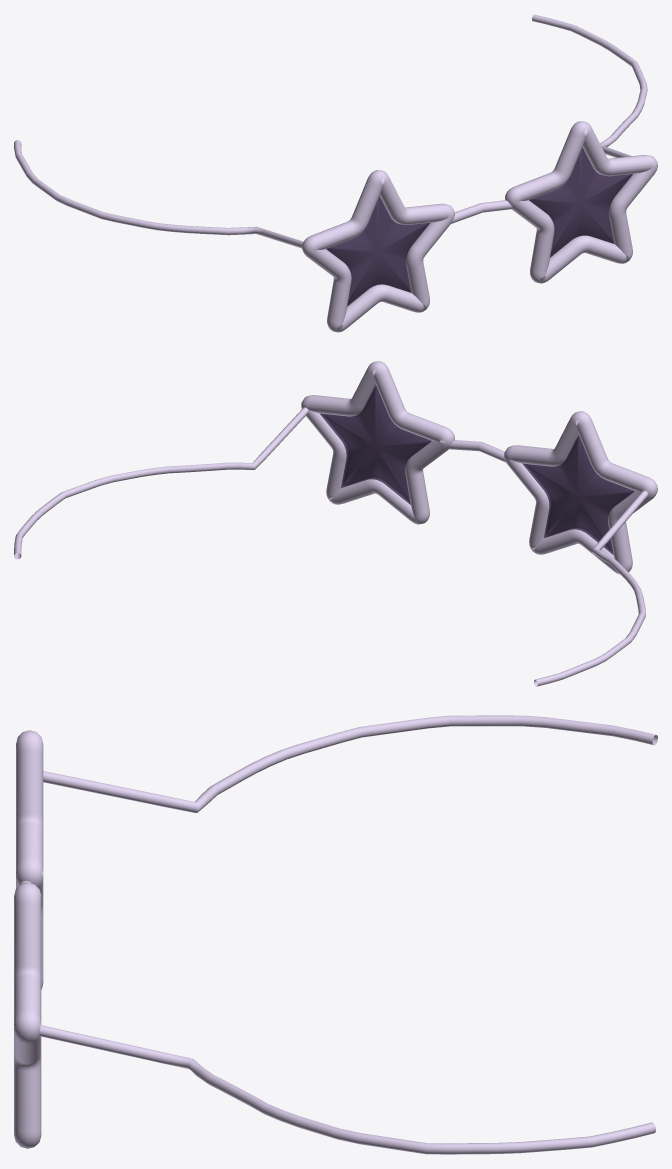
The model's file is restart_glasses_star_bear.glb.
The picture shows the model from 3 angles, top to bottom: view 1: azimuth 30°, elevation 25°; view 2: azimuth 150°, elevation 25°; view 3: azimuth 270°, elevation 25°; orthographic projection. The views are drawn at different scales.
Visible parts, largest first — view 1: Montura estrella redondeada.002, Montura estrella redondeada.003, Lente estrella continua.003, Lente estrella continua.002, Patilla envolvente.002, Patilla envolvente.003, Puente nasal redondeado.001; view 2: Montura estrella redondeada.003, Montura estrella redondeada.002, Lente estrella continua.003, Lente estrella continua.002, Patilla envolvente.003, Patilla envolvente.002, Puente nasal redondeado.001; view 3: Patilla envolvente.003, Patilla envolvente.002, Montura estrella redondeada.003, Montura estrella redondeada.002.
Boxes of the visible parts, x1,y1,x2,y2 form: Montura estrella redondeada.002: (302, 170, 454, 332); Montura estrella redondeada.003: (505, 121, 657, 283); Lente estrella continua.003: (529, 147, 632, 257); Lente estrella continua.002: (326, 196, 429, 306); Patilla envolvente.002: (14, 140, 303, 248); Patilla envolvente.003: (532, 14, 647, 157); Puente nasal redondeado.001: (451, 200, 512, 223); Montura estrella redondeada.003: (301, 361, 454, 524); Montura estrella redondeada.002: (504, 411, 657, 574); Lente estrella continua.003: (319, 384, 431, 504); Lente estrella continua.002: (522, 435, 634, 554); Patilla envolvente.003: (14, 407, 308, 559); Patilla envolvente.002: (534, 491, 648, 686); Puente nasal redondeado.001: (448, 440, 505, 462); Patilla envolvente.003: (39, 1025, 655, 1154); Patilla envolvente.002: (43, 715, 657, 813); Montura estrella redondeada.003: (14, 882, 41, 1148); Montura estrella redondeada.002: (16, 730, 43, 989).
Size of the model in its own units: 0.8215 by 0.206 by 0.5166.
